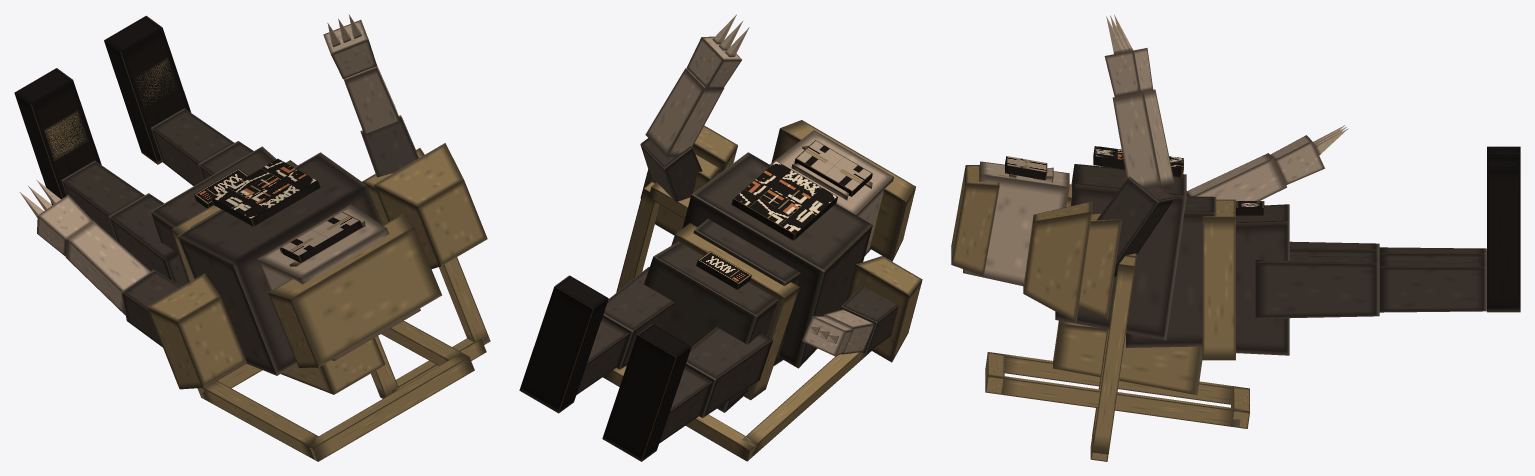
The model's file is jurisiel_warning.obj.
3 views of the same model, side by side, from view 1: azimuth 30°, elevation 25°; view 2: azimuth 150°, elevation 25°; view 3: azimuth 270°, elevation 25° (orthographic). The views are drawn at different scales.
Parts seen in each view (by area): view 1: jurisiel_warning; view 2: jurisiel_warning; view 3: jurisiel_warning.
Boxes of the visible parts, left/top/right/bottom form: jurisiel_warning: left=14, top=15, right=490, bottom=461; jurisiel_warning: left=519, top=14, right=922, bottom=461; jurisiel_warning: left=951, top=15, right=1520, bottom=461.
Bounding box in the file's own units: 0.7386 × 0.8351 × 1.
Materials: 1 (1 with a texture image).
